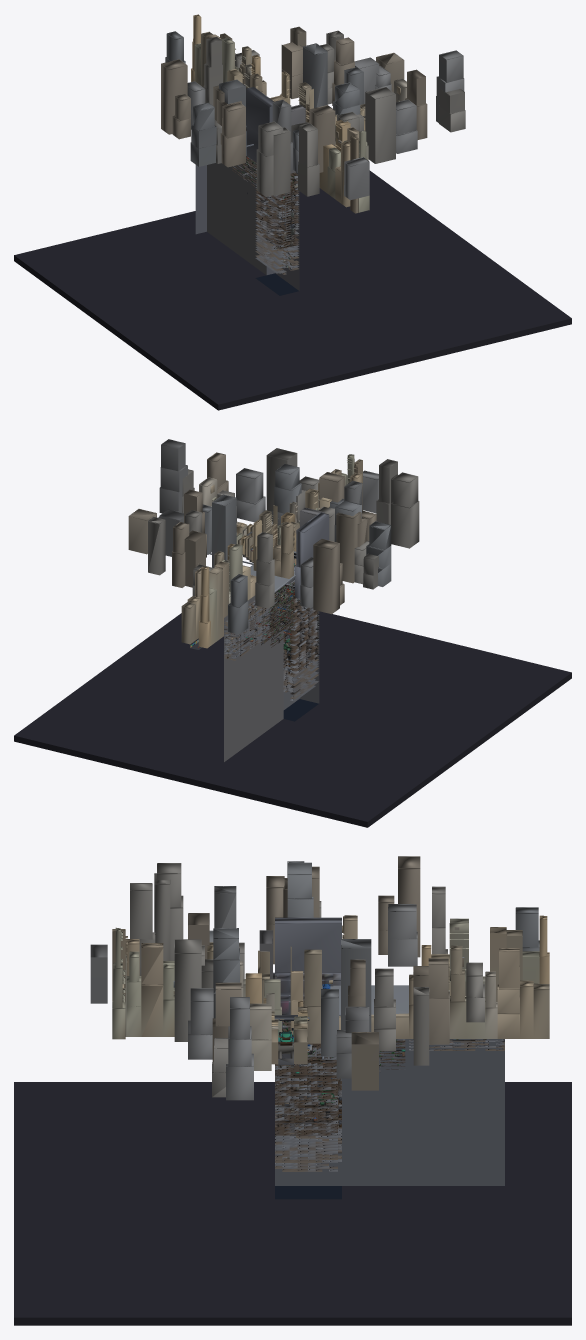
The model's file is near.glb.
3 renders of one model, top to bottom at view 1: azimuth 30°, elevation 25°; view 2: azimuth 150°, elevation 25°; view 3: azimuth 270°, elevation 25°, orthographic. The views are drawn at different scales.
Parts seen in each view (by area): view 1: near-placeholder; view 2: near-placeholder; view 3: near-placeholder.
Part boxes in pixels (x1=…): near-placeholder: x1=14, y1=14, x2=571, y2=410; near-placeholder: x1=14, y1=439, x2=571, y2=827; near-placeholder: x1=14, y1=856, x2=571, y2=1325.
Bounding box in the file's own units: 500 × 297 × 500.
